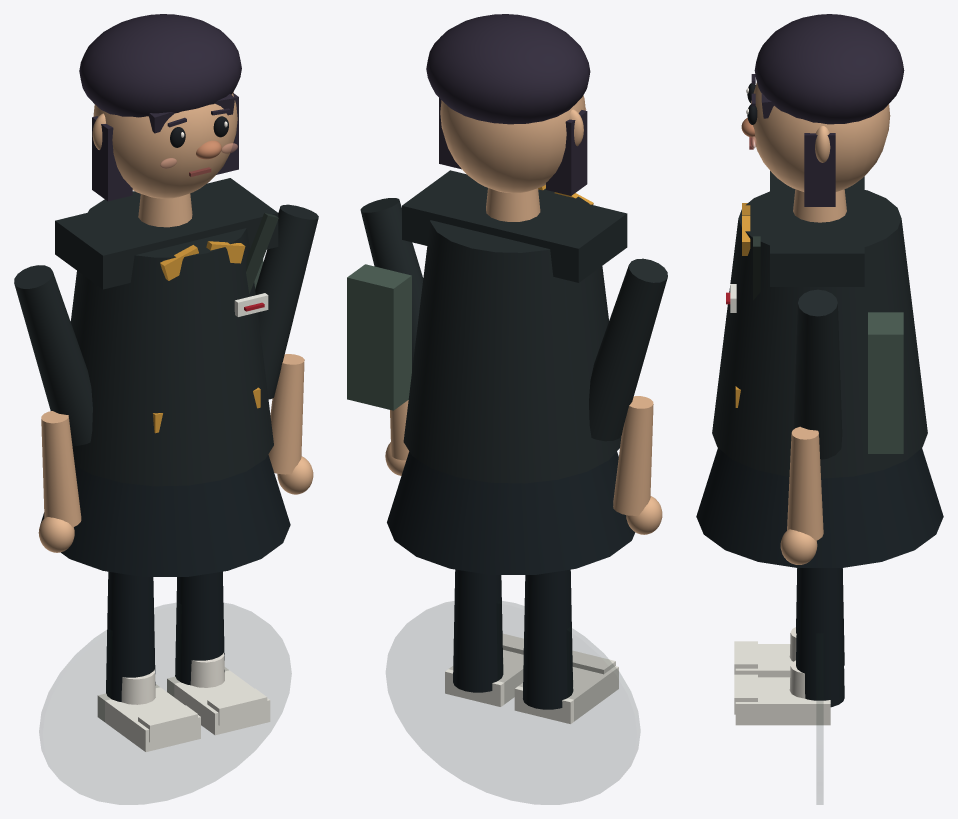
The model's file is player_female_black.glb.
3 views of the same model, side by side, from view 1: azimuth 30°, elevation 25°; view 2: azimuth 150°, elevation 25°; view 3: azimuth 270°, elevation 25° (orthographic). The views are drawn at different scales.
Parts seen in each view (by area): view 1: torso, contact_shadow, skirt, hair_cap, shoulder_line, head, upper_arm_-0.235, upper_arm_0.235, leg_-0.075, leg_0.075, forearm_-0.235, forearm_0.235 (+12 smaller); view 2: torso, contact_shadow, skirt, hair_cap, shoulder_line, shoulder_bag, upper_arm_-0.235, head, leg_-0.075, leg_0.075, forearm_-0.235, upper_arm_0.235 (+7 smaller); view 3: torso, skirt, hair_cap, shoulder_line, upper_arm_0.235, head, leg_0.075, shoulder_bag, forearm_0.235, shoe_0.075, side_hair_0.115, shoe_-0.075 (+7 smaller).
Boxes of the visible parts, x1,y1,x2,y2 form: torso: (70, 191, 273, 486); contact_shadow: (39, 603, 291, 804); skirt: (40, 454, 290, 576); hair_cap: (79, 14, 241, 117); shoulder_line: (55, 178, 278, 289); head: (93, 93, 237, 198); upper_arm_-0.235: (14, 265, 92, 445); upper_arm_0.235: (255, 204, 318, 399); leg_-0.075: (106, 571, 155, 701); leg_0.075: (175, 571, 224, 685); forearm_-0.235: (41, 411, 81, 527); forearm_0.235: (268, 354, 304, 474); torso: (403, 188, 621, 483); contact_shadow: (386, 601, 639, 804); skirt: (387, 451, 635, 574); hair_cap: (426, 14, 590, 124); shoulder_line: (402, 170, 627, 282); shoulder_bag: (347, 264, 411, 410); upper_arm_-0.235: (589, 258, 667, 441); head: (440, 95, 585, 193); leg_-0.075: (523, 569, 573, 709); leg_0.075: (453, 569, 503, 692); forearm_-0.235: (613, 396, 653, 515); upper_arm_0.235: (360, 198, 423, 370); torso: (712, 190, 927, 478); skirt: (696, 448, 943, 567); hair_cap: (754, 14, 904, 124); shoulder_line: (770, 171, 864, 286); upper_arm_0.235: (793, 289, 842, 459); head: (751, 82, 890, 191); leg_0.075: (796, 568, 844, 707); shoulder_bag: (868, 312, 903, 453); forearm_0.235: (787, 426, 823, 540); shoe_0.075: (735, 677, 830, 725); side_hair_0.115: (804, 133, 835, 206); shoe_-0.075: (735, 644, 792, 677).
Bounding box in the file's own units: 0.636 × 1.56 × 0.4606.
